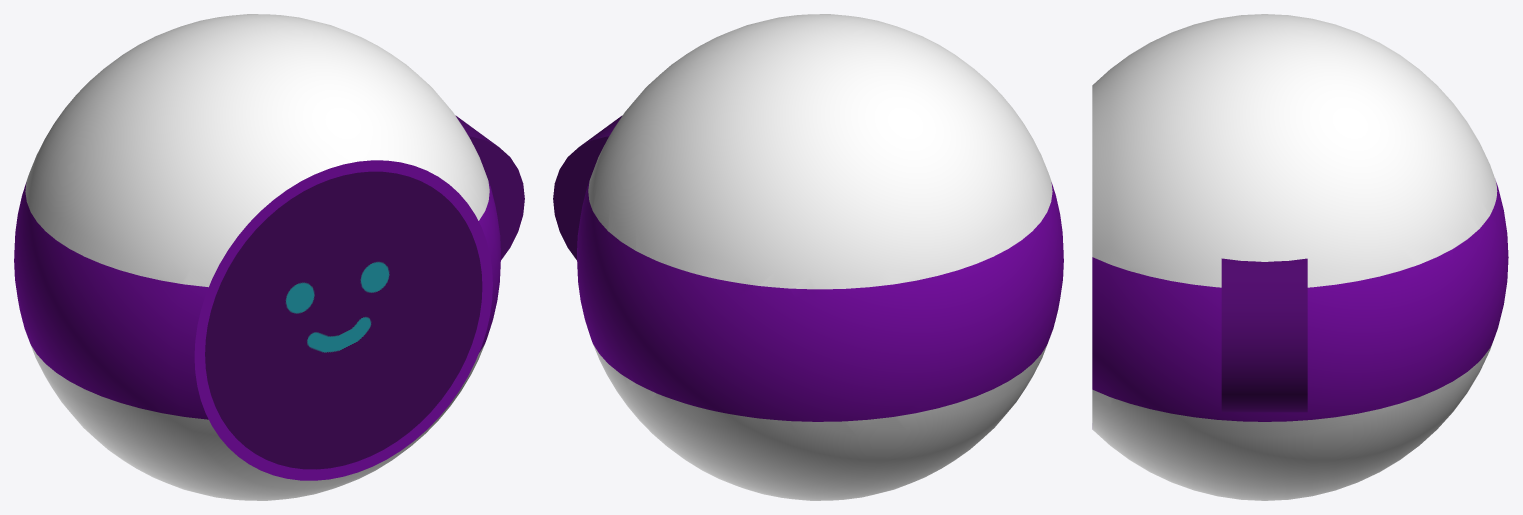
File: wendyModel_OLD.glb
3 views of the same model, side by side, from view 1: azimuth 30°, elevation 25°; view 2: azimuth 150°, elevation 25°; view 3: azimuth 270°, elevation 25° (orthographic).
Visible parts, largest first — view 1: Wendy; view 2: Wendy; view 3: Wendy.
Part boxes in pixels (x1,y1,x2,y2): Wendy: (14, 14, 524, 500); Wendy: (553, 14, 1063, 500); Wendy: (1092, 14, 1508, 500).
Size of the model in its own units: 2.17 by 2 by 1.71.
1 material, 1 textured.
